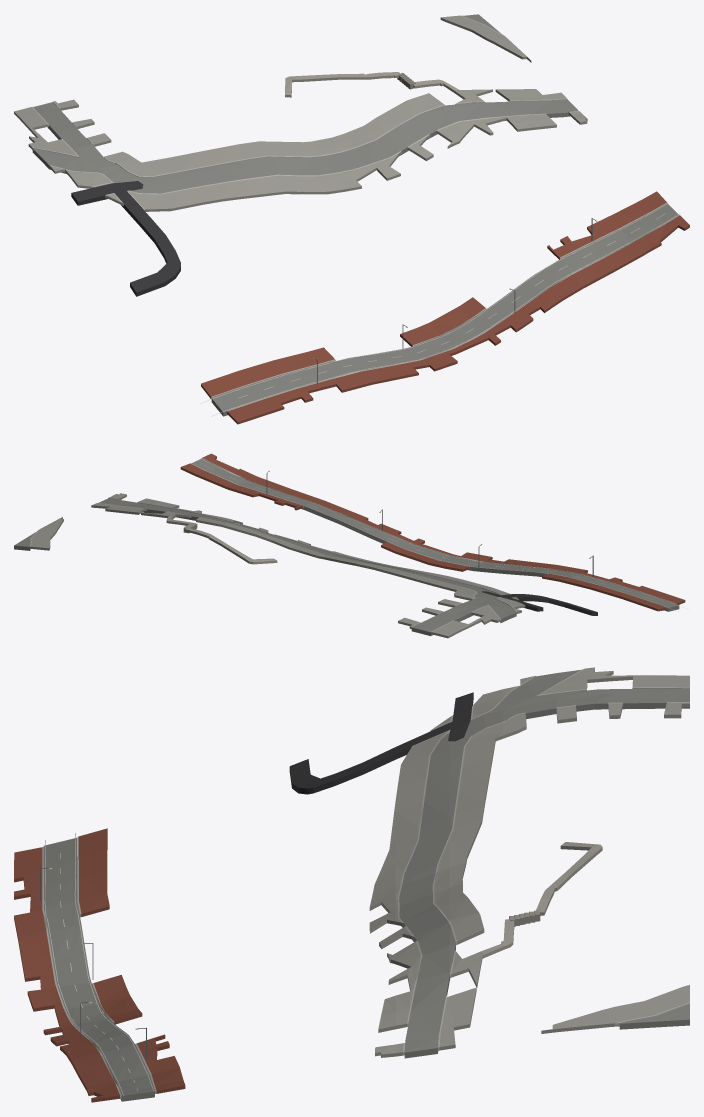
The model's file is 18-218864-118961.951bce9d.glb.
The picture shows the model from 3 angles, top to bottom: view 1: azimuth 30°, elevation 25°; view 2: azimuth 150°, elevation 25°; view 3: azimuth 270°, elevation 25°; orthographic projection. The views are drawn at different scales.
Bounding box in the file's own units: 151 × 39.2 × 126.
